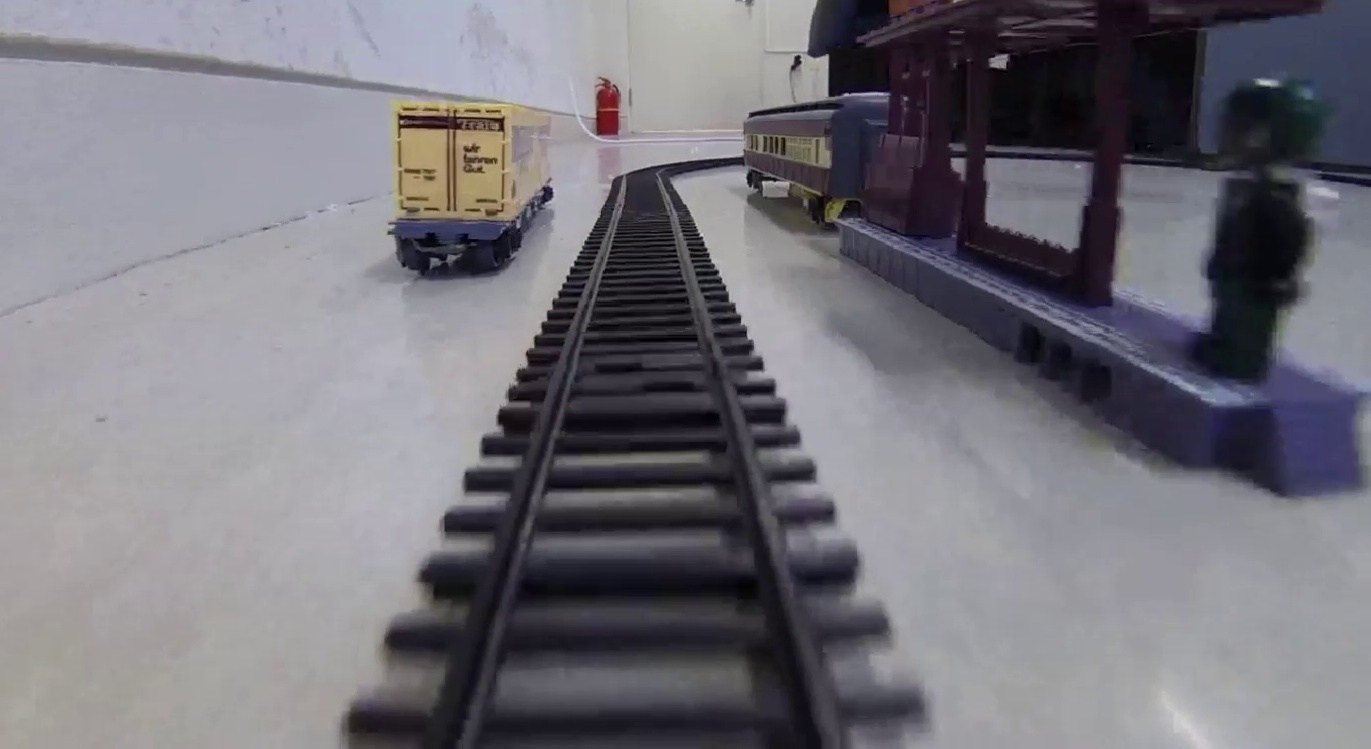people: (1202, 73, 1322, 384)
